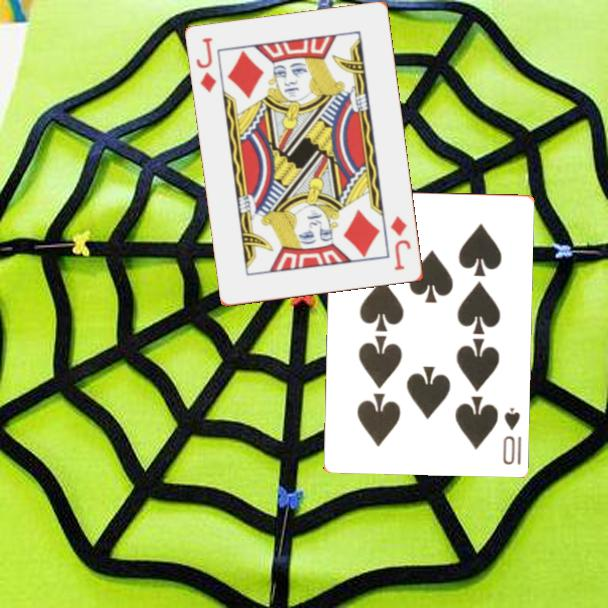d11: (387, 213, 414, 274), (193, 34, 219, 96)
s10: (499, 404, 523, 467)
